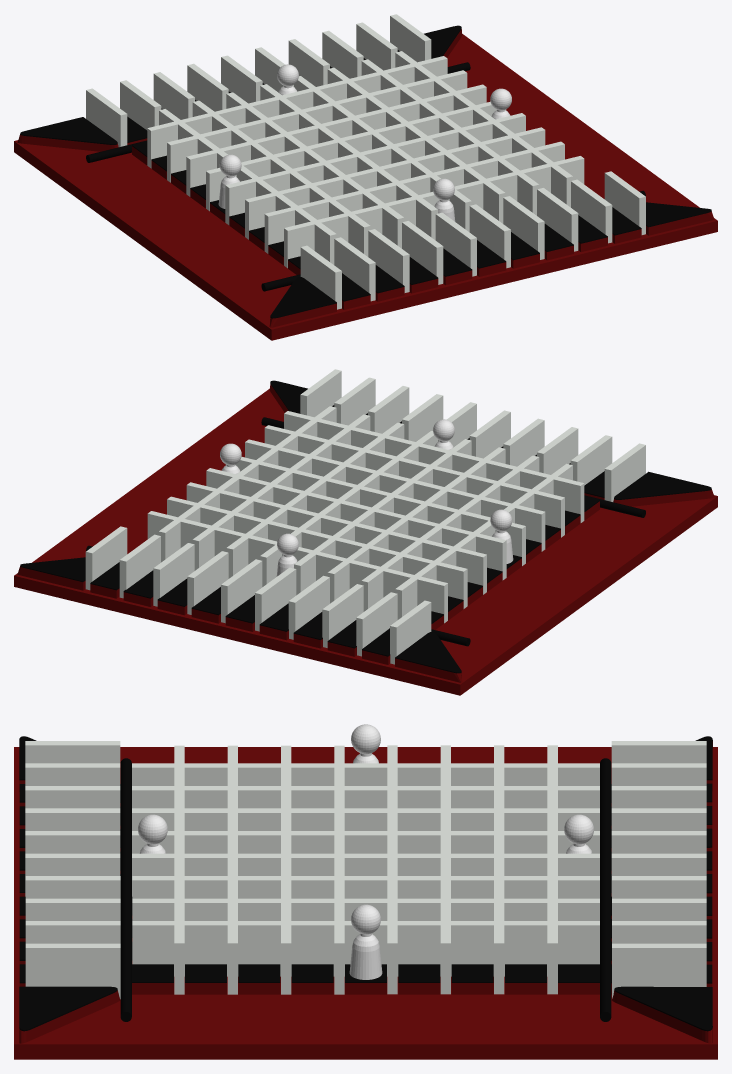
Rendered from korridorAll.fbx.
3 renders of one model, top to bottom at view 1: azimuth 30°, elevation 25°; view 2: azimuth 150°, elevation 25°; view 3: azimuth 270°, elevation 25°, orthographic. The views are drawn at different scales.
Parts seen in each view (by area): view 1: Cube, Cube.002, Cube.120, Cube.119, Cube.121, Cube.122, Cube.109, Cube.123, Cube.124, Cube.115, Cube.118, Cube.117 (+71 smaller); view 2: Cube, Cube.002, Cube.111, Cube.109, Cube.110, Cube.108, Cube.107, Cube.105, Cube.120, Cube.106, Cube.112, Cube.114 (+63 smaller); view 3: Cube, Cube.002, Cube.118, Cube.111, Cube.132, Cube.137, Cube.157, Cylinder.001, Cylinder, Cube.172, Cube.152, Cube.106 (+96 smaller).
Part boxes in pixels (x1=…): Cube: x1=14, y1=29, x2=717, y2=340; Cube.002: x1=20, y1=25, x2=711, y2=318; Cube.120: x1=300, y1=245, x2=341, y2=309; Cube.119: x1=334, y1=237, x2=375, y2=301; Cube.121: x1=368, y1=229, x2=409, y2=292; Cube.122: x1=402, y1=221, x2=443, y2=284; Cube.109: x1=86, y1=88, x2=127, y2=147; Cube.123: x1=469, y1=204, x2=510, y2=268; Cube.124: x1=435, y1=212, x2=476, y2=276; Cube.115: x1=537, y1=188, x2=578, y2=251; Cube.118: x1=604, y1=171, x2=645, y2=234; Cube.117: x1=571, y1=179, x2=612, y2=243; Cube: x1=14, y1=384, x2=717, y2=695; Cube.002: x1=20, y1=380, x2=711, y2=673; Cube.111: x1=85, y1=526, x2=127, y2=590; Cube.109: x1=390, y1=600, x2=431, y2=664; Cube.110: x1=356, y1=592, x2=397, y2=656; Cube.108: x1=322, y1=584, x2=363, y2=647; Cube.107: x1=288, y1=575, x2=329, y2=639; Cube.105: x1=255, y1=567, x2=296, y2=631; Cube.120: x1=604, y1=443, x2=645, y2=501; Cube.106: x1=221, y1=559, x2=262, y2=623; Cube.112: x1=119, y1=534, x2=160, y2=598; Cube.114: x1=153, y1=543, x2=194, y2=606; Cube: x1=14, y1=741, x2=717, y2=1059; Cube.002: x1=19, y1=736, x2=712, y2=1031; Cube.118: x1=25, y1=943, x2=120, y2=999; Cube.111: x1=612, y1=943, x2=706, y2=998; Cube.132: x1=132, y1=921, x2=227, y2=976; Cube.137: x1=238, y1=921, x2=333, y2=976; Cube.157: x1=451, y1=921, x2=546, y2=976; Cylinder.001: x1=600, y1=758, x2=611, y2=1021; Cylinder: x1=120, y1=758, x2=131, y2=1021; Cube.172: x1=505, y1=921, x2=599, y2=976; Cube.152: x1=345, y1=921, x2=440, y2=976; Cube.106: x1=611, y1=853, x2=706, y2=896.
Size of the model in its own units: 9.79 by 1.46 by 9.79.
